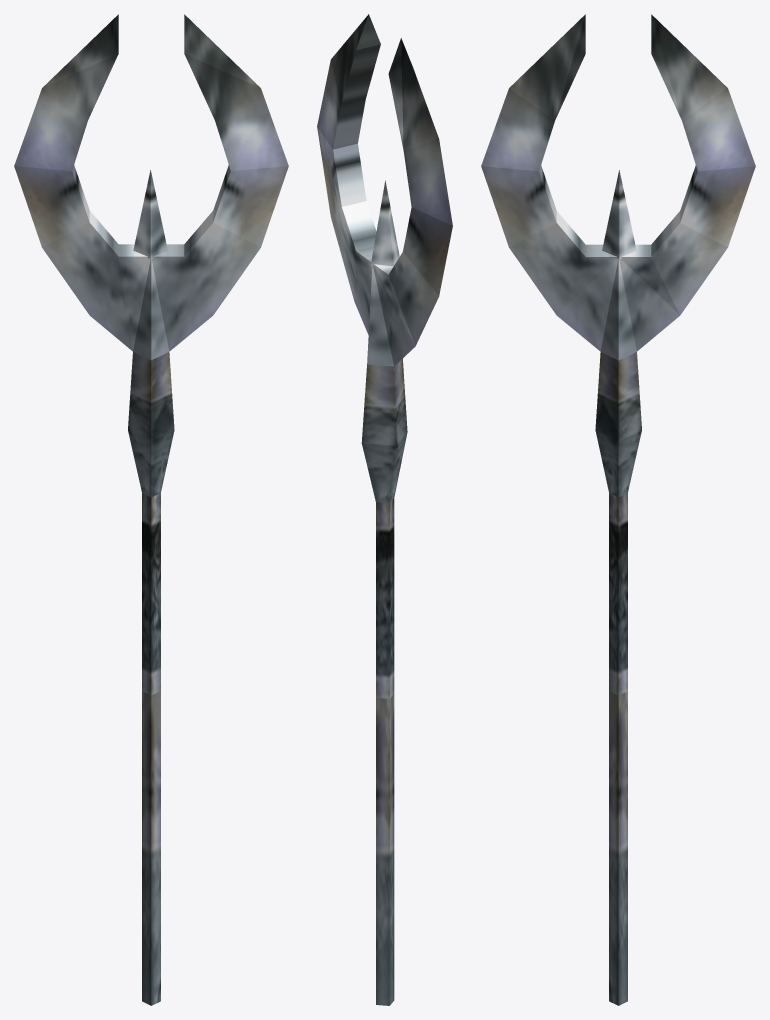
The model's file is longarm03_1.obj.
3 views of the same model, side by side, from view 1: azimuth 90°, elevation 25°; view 2: azimuth 210°, elevation 25°; view 3: azimuth 270°, elevation 25° (orthographic).
Parts seen in each view (by area): view 1: longarm03_1; view 2: longarm03_1; view 3: longarm03_1.
Part boxes in pixels (left/top/right/bottom): longarm03_1: left=14, top=14, right=288, bottom=1005; longarm03_1: left=317, top=14, right=452, bottom=1005; longarm03_1: left=481, top=14, right=755, bottom=1005.
Size of the model in its own units: 0.1175 by 2.39 by 0.6037.
